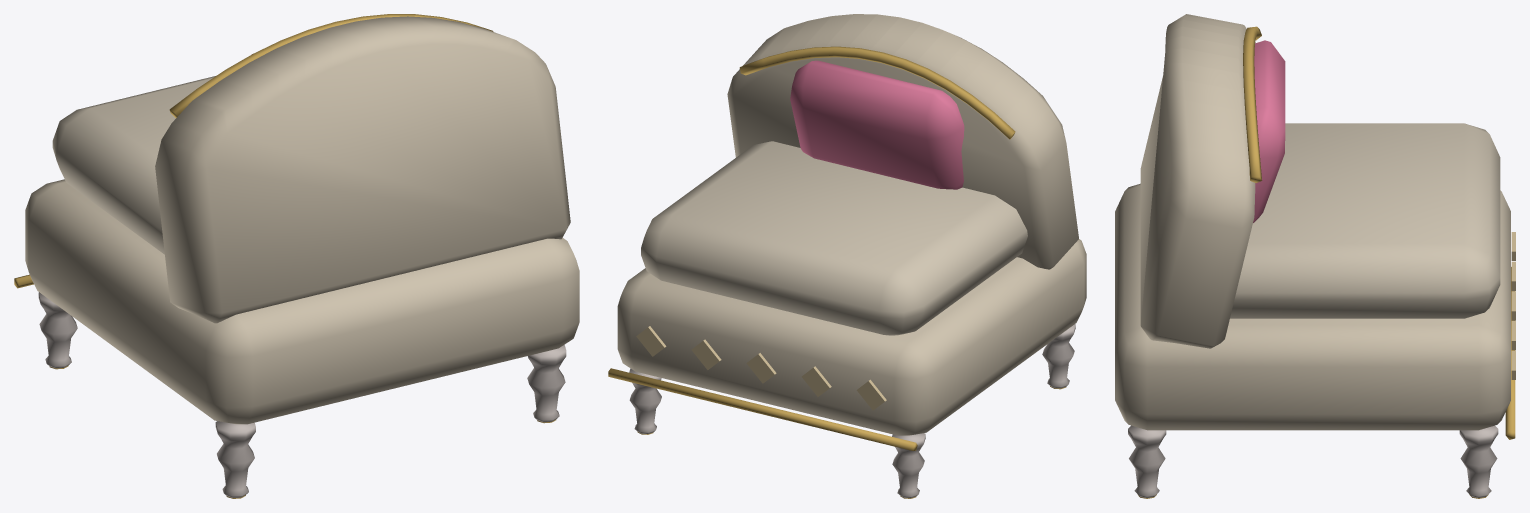
File: chair_low_back.glb
The picture shows the model from 3 angles, left to right: view 1: azimuth 30°, elevation 25°; view 2: azimuth 150°, elevation 25°; view 3: azimuth 270°, elevation 25°; orthographic projection. The views are drawn at different scales.
Visible parts, largest first — view 1: chair_low_back; view 2: chair_low_back; view 3: chair_low_back.
Boxes of the visible parts, x1=… form: chair_low_back: x1=14, y1=14, x2=579, y2=498; chair_low_back: x1=608, y1=14, x2=1086, y2=498; chair_low_back: x1=1115, y1=14, x2=1515, y2=498.
Size of what is drawn, in the model's own units: 0.78 by 0.82 by 0.78.
